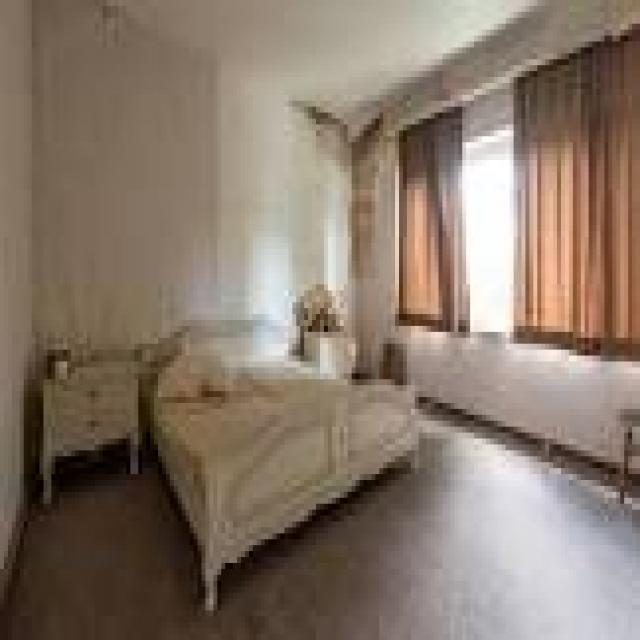mess: (110, 318, 408, 482), (34, 328, 141, 384)
